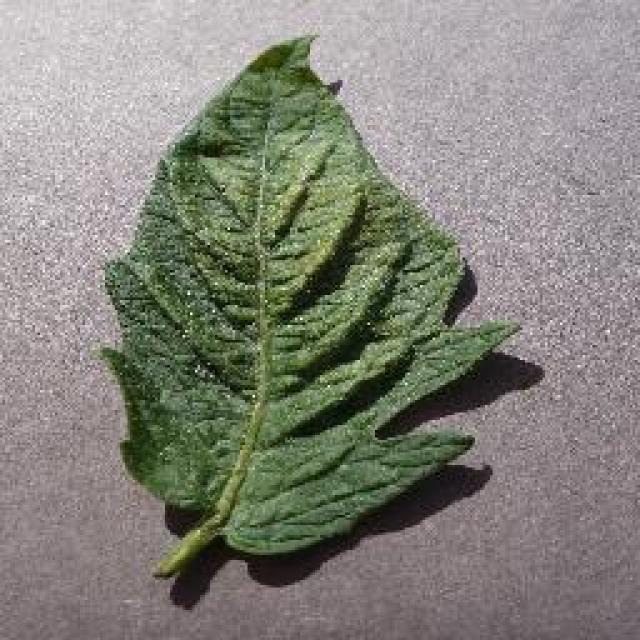Tom_Spider_mites Two-spotted_spider_mite: (156, 128, 406, 376)
